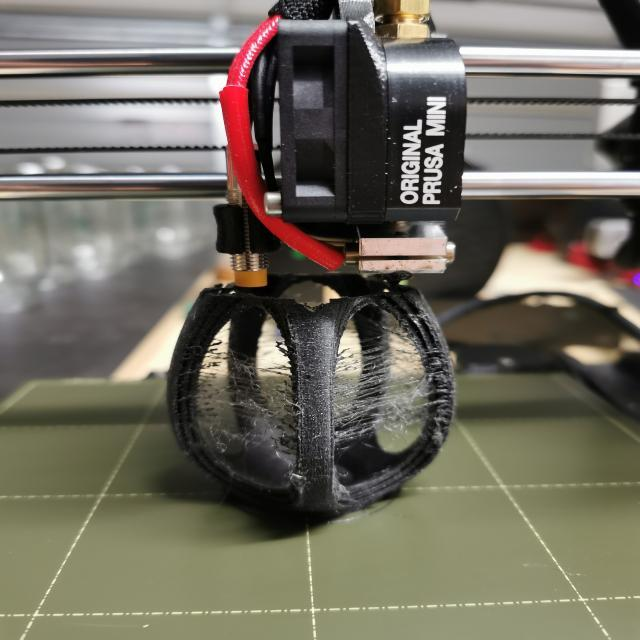Stringing: (185, 334, 304, 463), (329, 334, 439, 447)
